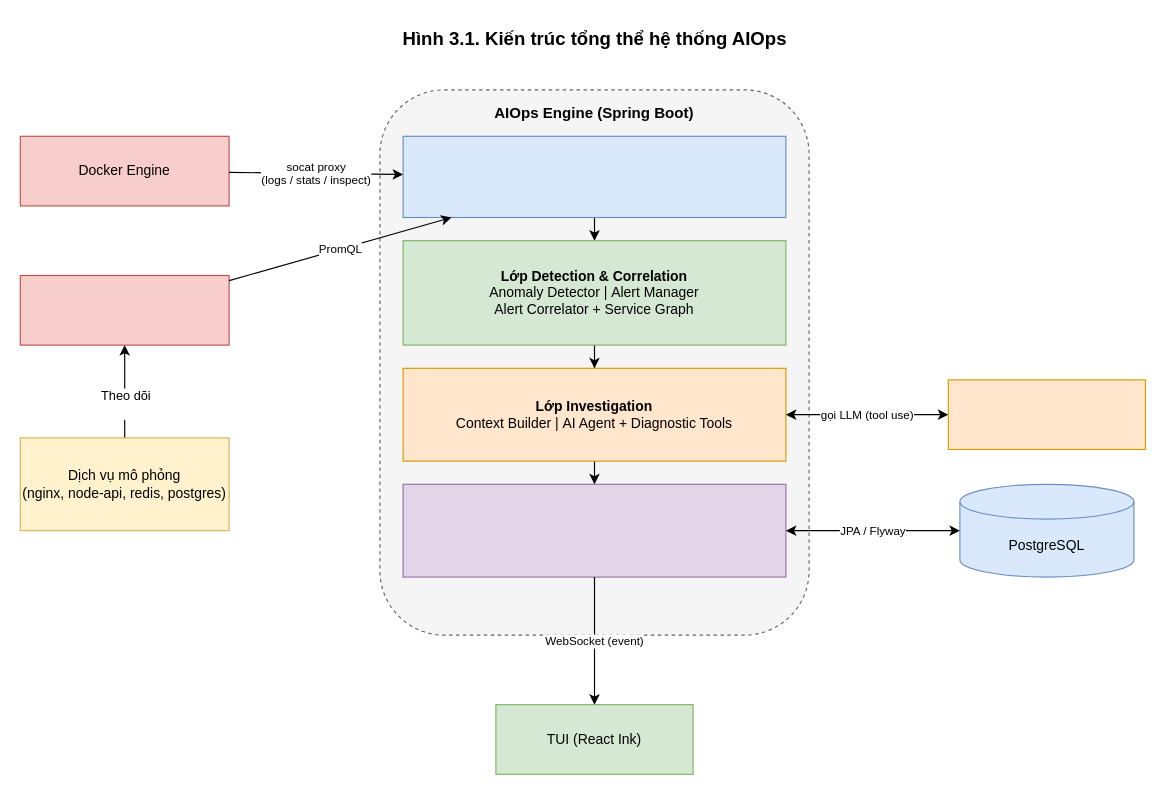
This 1166x795 diagram has some shape labels left out. Each missing label, with the centre of its shape:
Anthropic Claude API: [1046,414]
Lớp Collection Log Collector | Metric Collector: [594,176]
Lớp Storage & Presentation Repositories (JPA) | WebSocket Server: [594,530]
Prometheus + exporters: [124,309]
